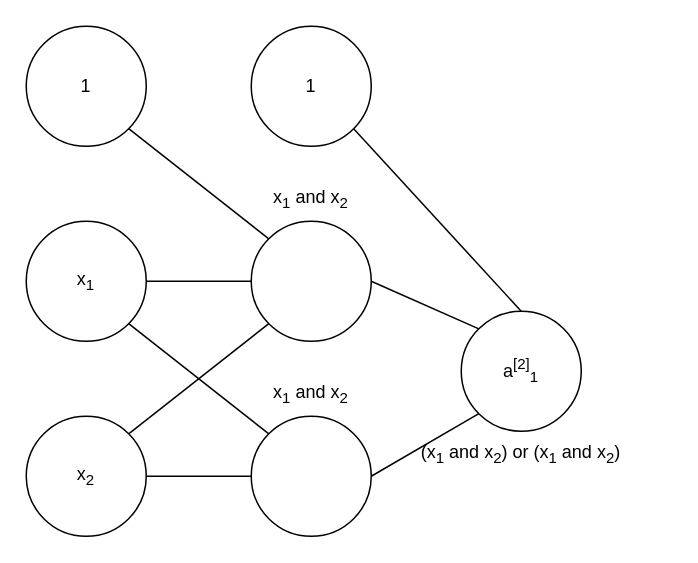
This 698x563 diagram has some shape labels left out. Here are the shapes that lost their labels. From the top down, the centre of each, then its label:
At (310,280): "a [1] 1".
At (310,475): "a [1] 2".
